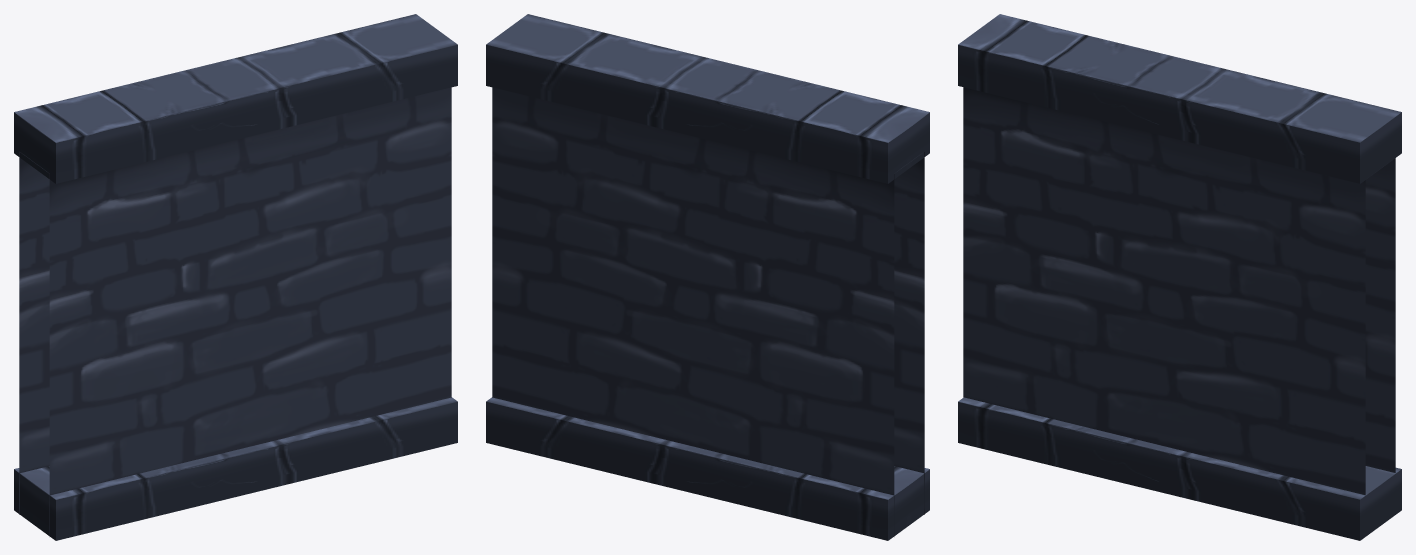
File: DungeonWall.fbx
3 renders of one model, left to right at view 1: azimuth 30°, elevation 25°; view 2: azimuth 150°, elevation 25°; view 3: azimuth 330°, elevation 25°, orthographic.
Visible parts, largest first — view 1: polySurface16; view 2: polySurface16; view 3: polySurface16.
Boxes of the visible parts, left/top/right/bottom form: polySurface16: left=14, top=14, right=457, bottom=540; polySurface16: left=486, top=14, right=929, bottom=540; polySurface16: left=958, top=14, right=1401, bottom=540.
Bounding box in the file's own units: 200 × 190 × 36.03.
